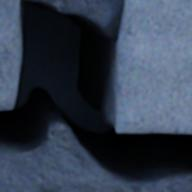brick: (114, 0, 191, 133), (0, 0, 21, 109)
crack: (0, 0, 191, 191)
